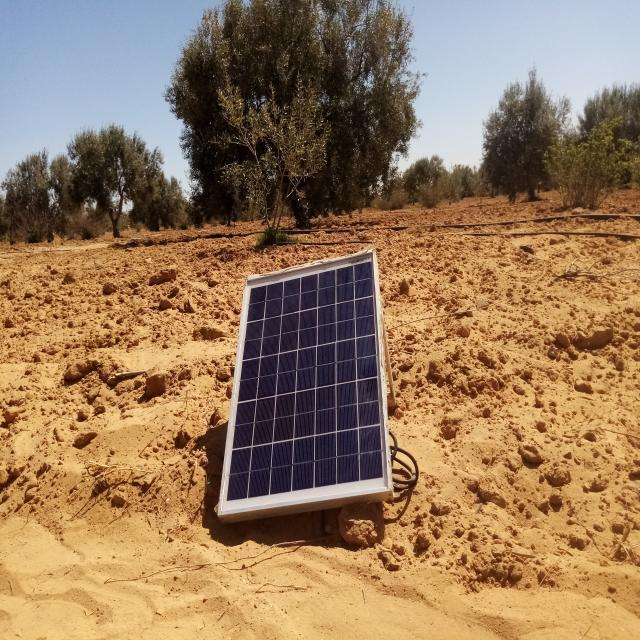Normal Solar Panel: (219, 251, 390, 513)
